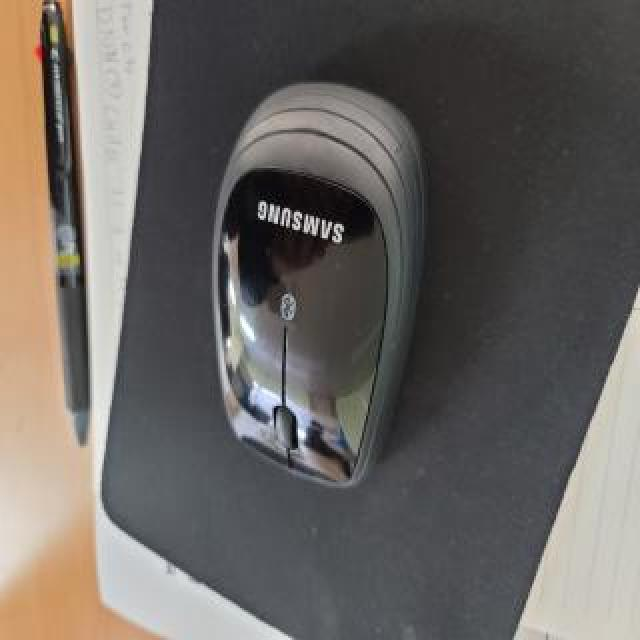mouse: (198, 70, 438, 495)
